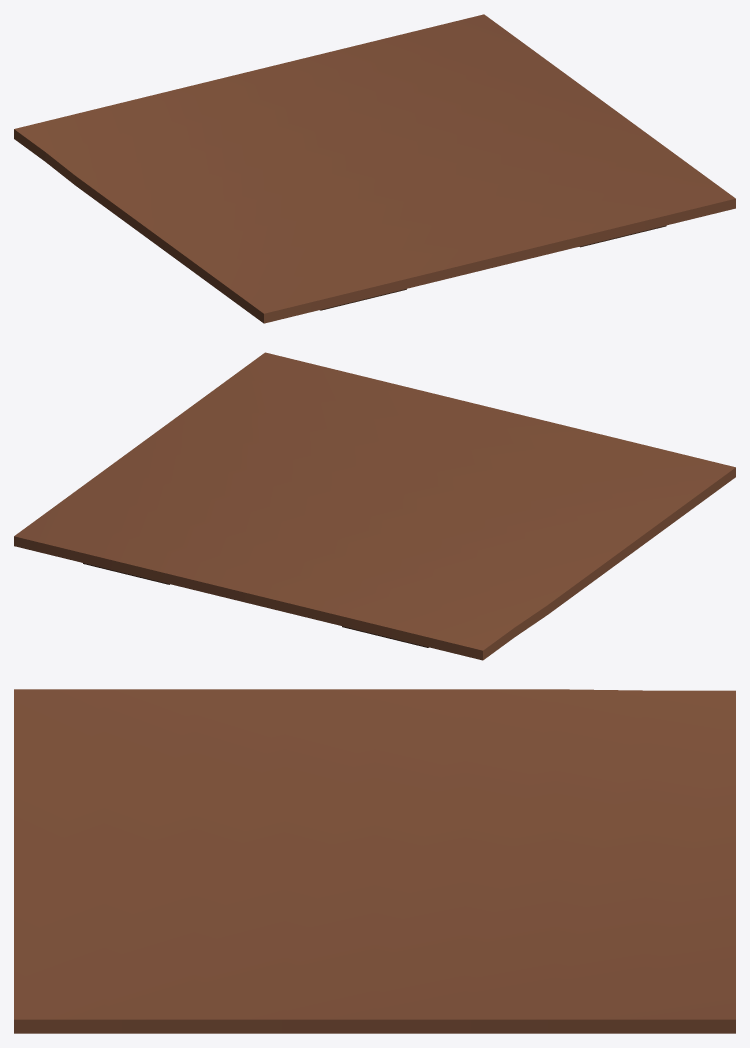
Rendered from Med Single Cherry Crate Lid.fbx.
3 views of the same model, one above another, from view 1: azimuth 30°, elevation 25°; view 2: azimuth 150°, elevation 25°; view 3: azimuth 270°, elevation 25° (orthographic). The views are drawn at different scales.
Visible parts, largest first — view 1: Med Cherry Single Crate Lid; view 2: Med Cherry Single Crate Lid; view 3: Med Cherry Single Crate Lid.
Part boxes in pixels (x1,y1,x2,y2): Med Cherry Single Crate Lid: [14, 14, 735, 323]; Med Cherry Single Crate Lid: [14, 352, 735, 660]; Med Cherry Single Crate Lid: [14, 689, 735, 1033].
Bounding box in the file's own units: 7.13 × 192 × 208.
1 material, 1 textured.
